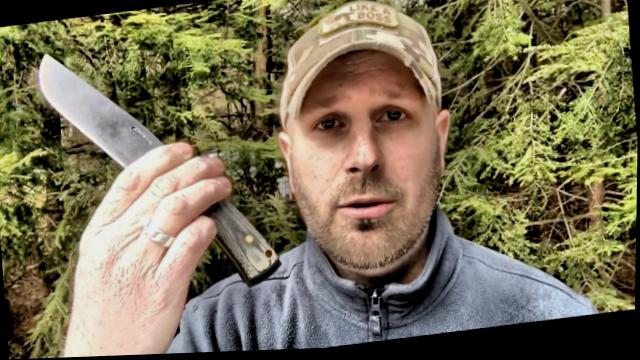knife: (26, 27, 238, 239)
